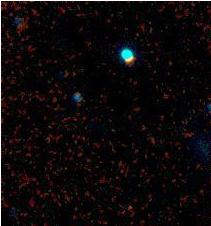star: (113, 192, 143, 222)
